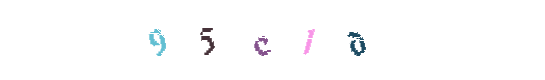5: (226, 0, 306, 80)
9: (129, 0, 209, 80)
C: (232, 0, 312, 80)
D: (265, 0, 345, 80)
L: (251, 0, 331, 80)
